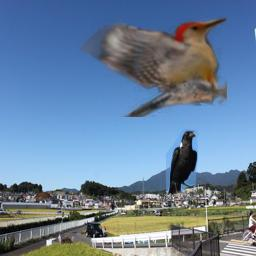Crow: (166, 129, 198, 197)
Woodpecker: (79, 16, 227, 117)
